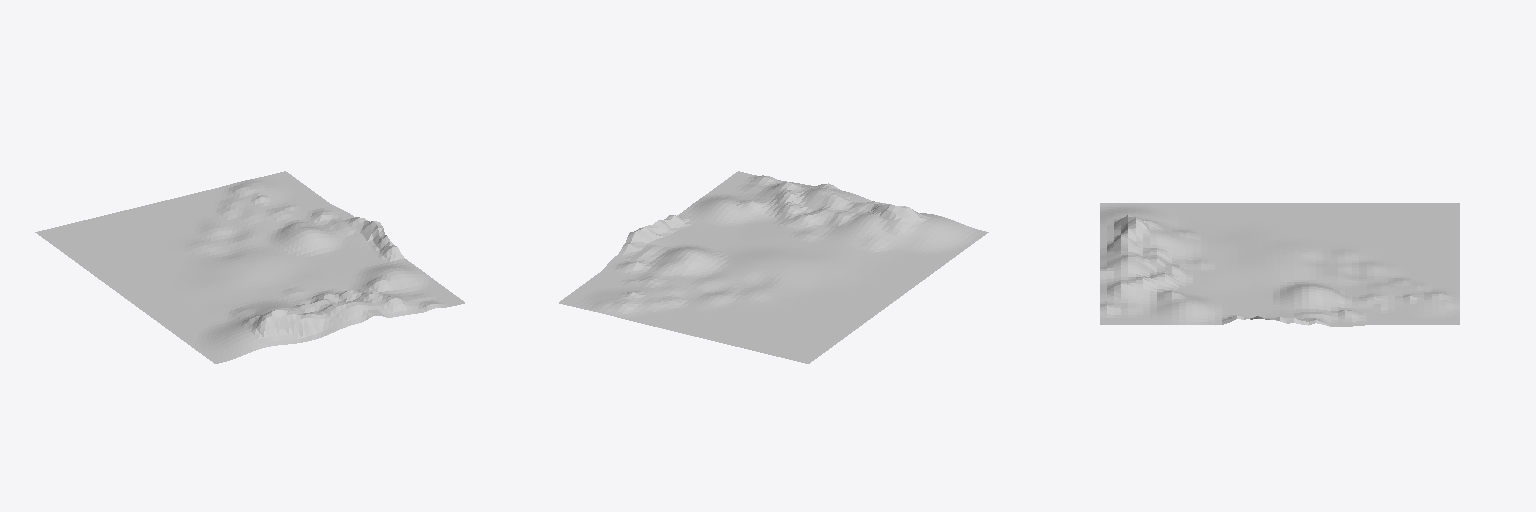
The model's file is Landscape.OBJ.
3 renders of one model, left to right at view 1: azimuth 30°, elevation 25°; view 2: azimuth 150°, elevation 25°; view 3: azimuth 270°, elevation 25°, orthographic.
Visible parts, largest first — view 1: ZBrush_defualt_group; view 2: ZBrush_defualt_group; view 3: ZBrush_defualt_group.
Boxes of the visible parts, box(x1,y1,x2,y2) form: ZBrush_defualt_group: box(35, 171, 464, 363); ZBrush_defualt_group: box(559, 171, 988, 363); ZBrush_defualt_group: box(1100, 203, 1459, 326).
Bounding box in the file's own units: 5312 × 438 × 6345.